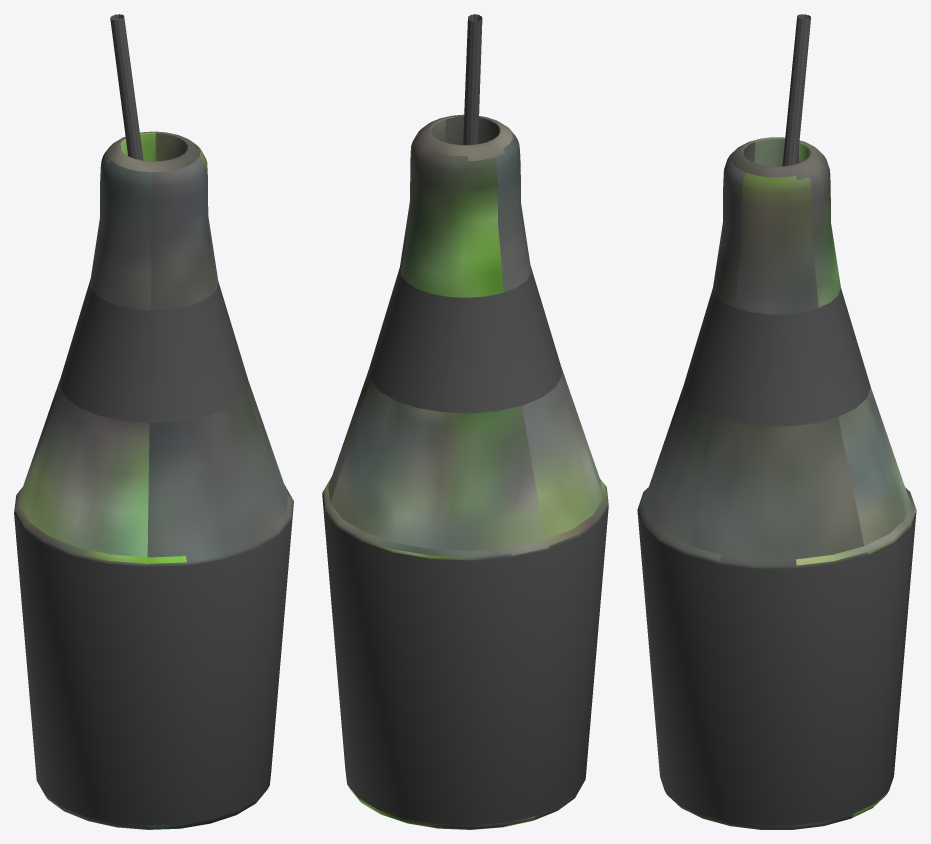
The model's file is Bottle.fbx.
3 renders of one model, left to right at view 1: azimuth 30°, elevation 25°; view 2: azimuth 150°, elevation 25°; view 3: azimuth 270°, elevation 25°, orthographic. The views are drawn at different scales.
Parts seen in each view (by area): view 1: Cylinder; view 2: Cylinder; view 3: Cylinder.
Part boxes in pixels (x1,y1,x2,y2): Cylinder: [14, 14, 293, 829]; Cylinder: [322, 14, 608, 829]; Cylinder: [637, 14, 916, 829].
Size of the model in its own units: 117 by 356 by 119.
Materials: 2 (1 with a texture image).
